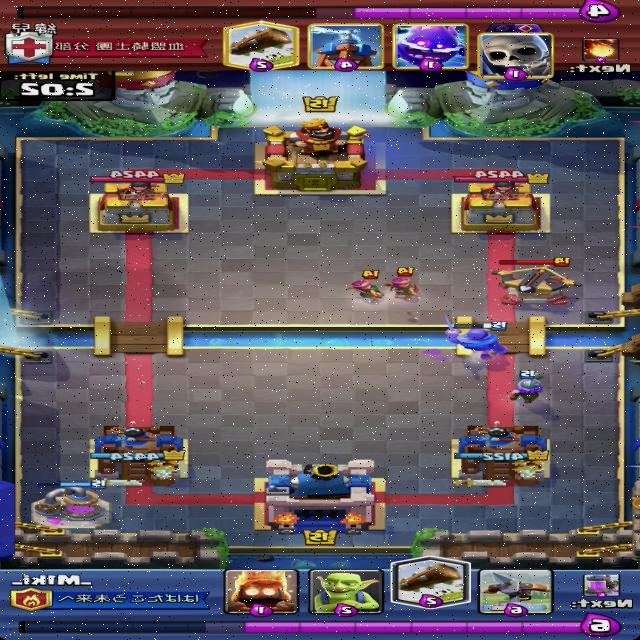Enemy-Archer: (349, 269, 394, 304), (384, 266, 422, 301)
Enemy-XBow: (488, 257, 582, 307)
Player-ElixirPump: (28, 479, 112, 530)
Player-Knight: (429, 315, 512, 359)
Player-Musketeer: (504, 370, 544, 407)
